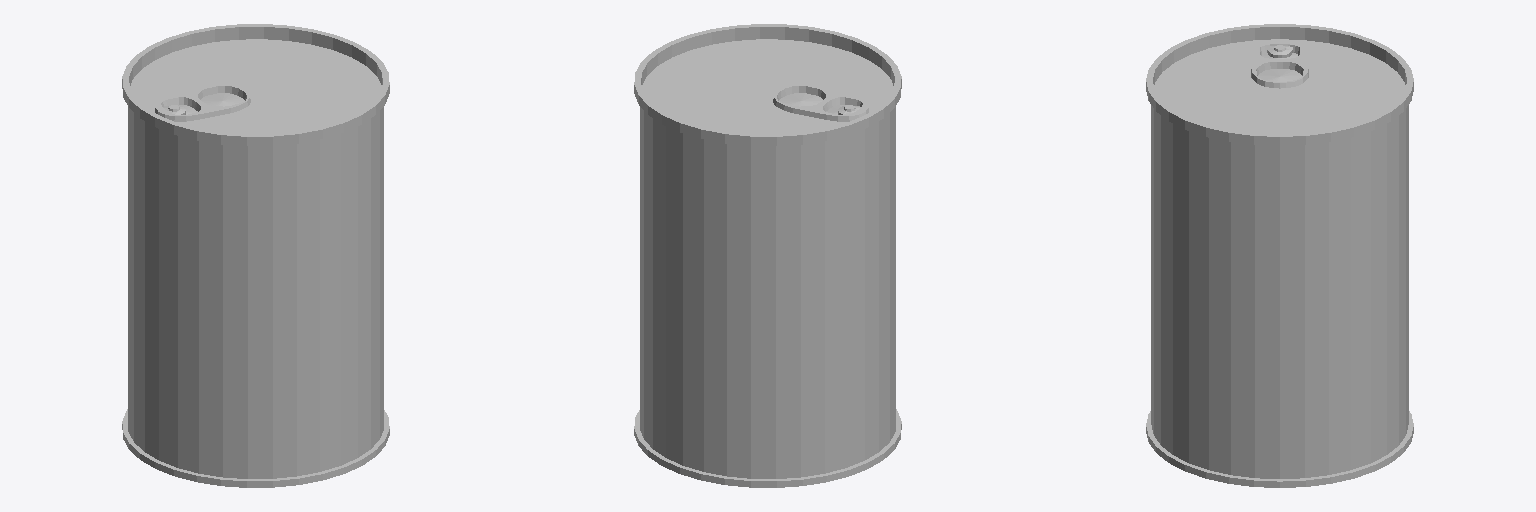
File: can.obj
3 views of the same model, side by side, from view 1: azimuth 30°, elevation 25°; view 2: azimuth 150°, elevation 25°; view 3: azimuth 270°, elevation 25° (orthographic).
Bounding box in the file's own units: 7.4 × 10.7 × 7.4.